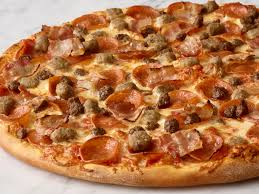pizza: (6, 7, 259, 183)
